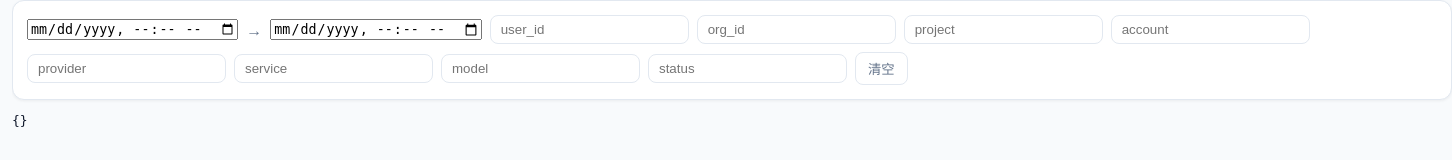
clearing resets the date input visually
Type "2026-06-25T10:00" into the field named "from".
click(133, 29); type("2026-06-25T10:00")  # box [27,19,238,40]
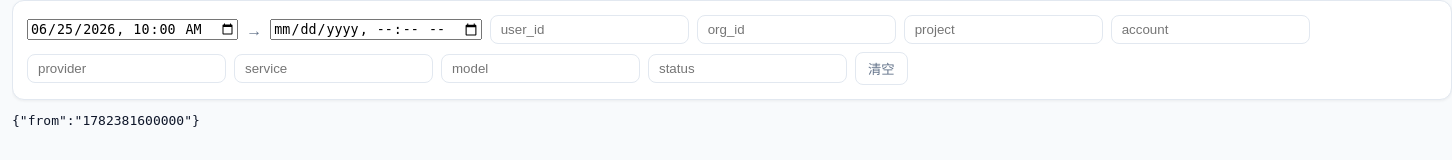
Click the button "清空".
click(881, 68)  # box [855,52,908,85]
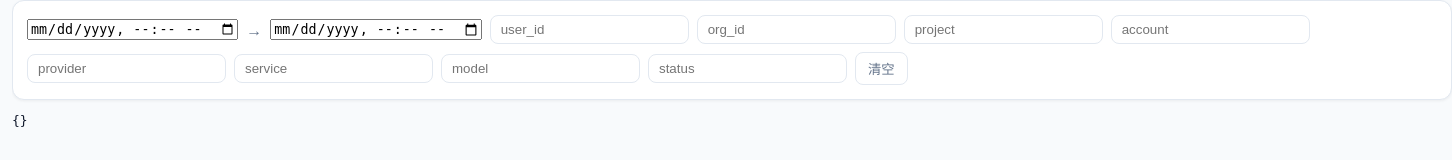
Expected: the field named "from" is empty, [27,19,238,40]
